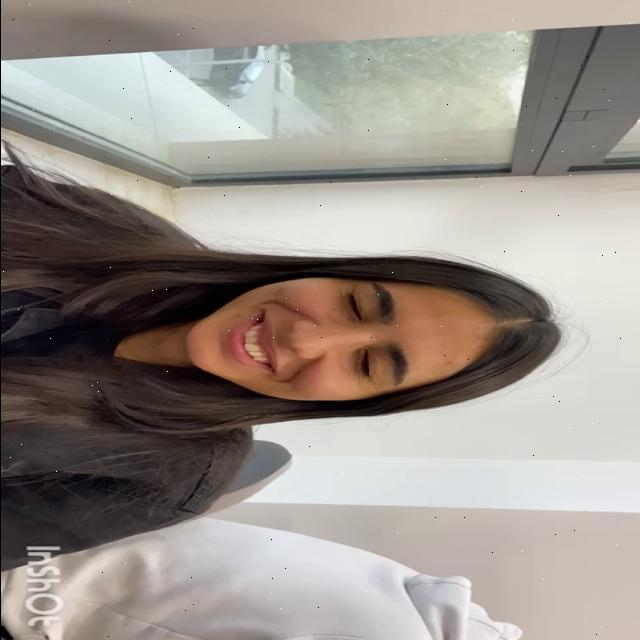happy: (184, 271, 492, 406)
